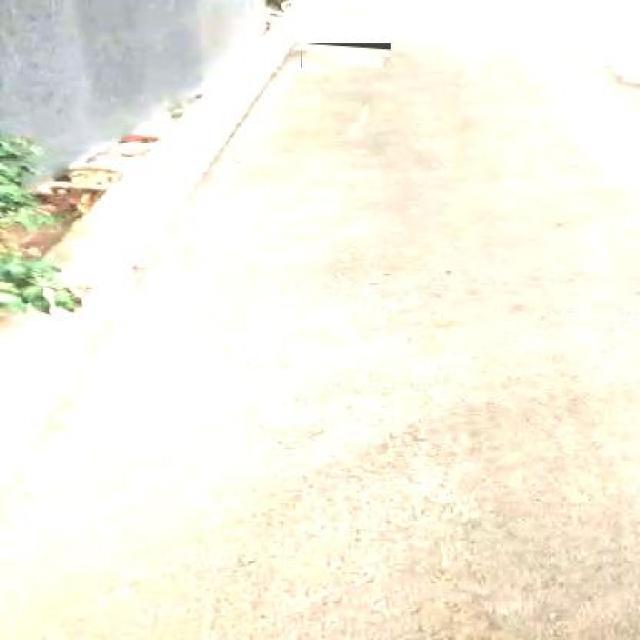Manhole: (300, 43, 391, 68)
